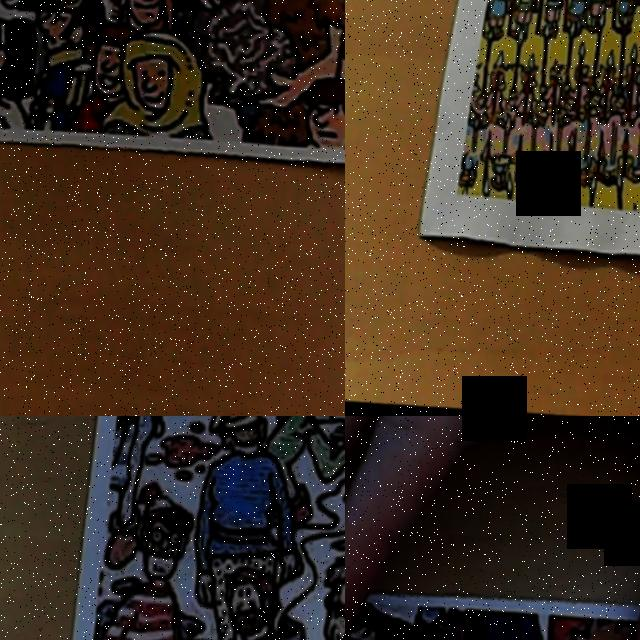waldo: (127, 479, 195, 585), (95, 0, 169, 33)
